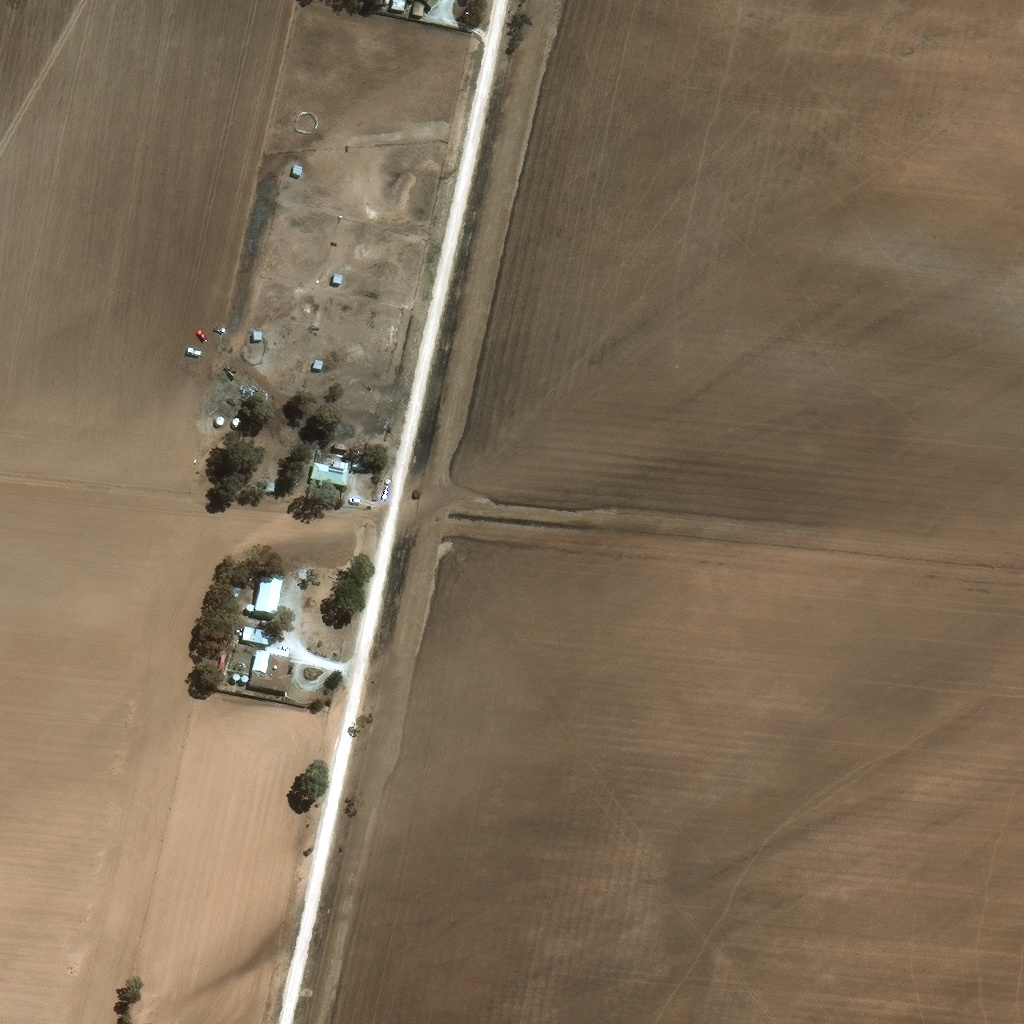0 no-damage: (248, 646, 292, 694), (254, 575, 285, 616), (310, 460, 351, 486), (242, 625, 271, 646), (217, 652, 231, 671), (412, 1, 425, 17), (233, 672, 250, 684), (335, 442, 353, 453), (293, 163, 304, 175), (333, 272, 344, 283), (313, 359, 325, 369), (253, 330, 265, 340), (232, 415, 243, 425), (245, 603, 255, 613), (217, 414, 226, 424), (218, 670, 228, 679)
4 un-classified: (214, 372, 238, 409), (420, 0, 441, 11)
